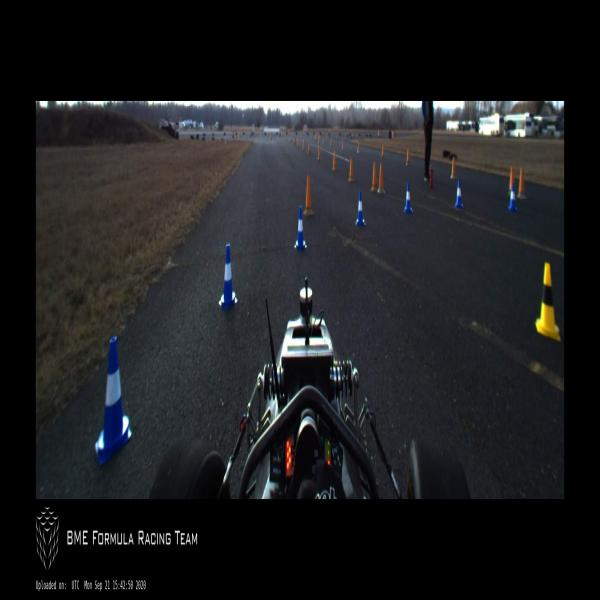blue_cone: (94, 336, 132, 464), (219, 245, 238, 309), (294, 207, 307, 250), (356, 190, 366, 225), (508, 183, 517, 212), (404, 182, 412, 213), (454, 179, 463, 205)
yellow_cone: (534, 261, 562, 339)
